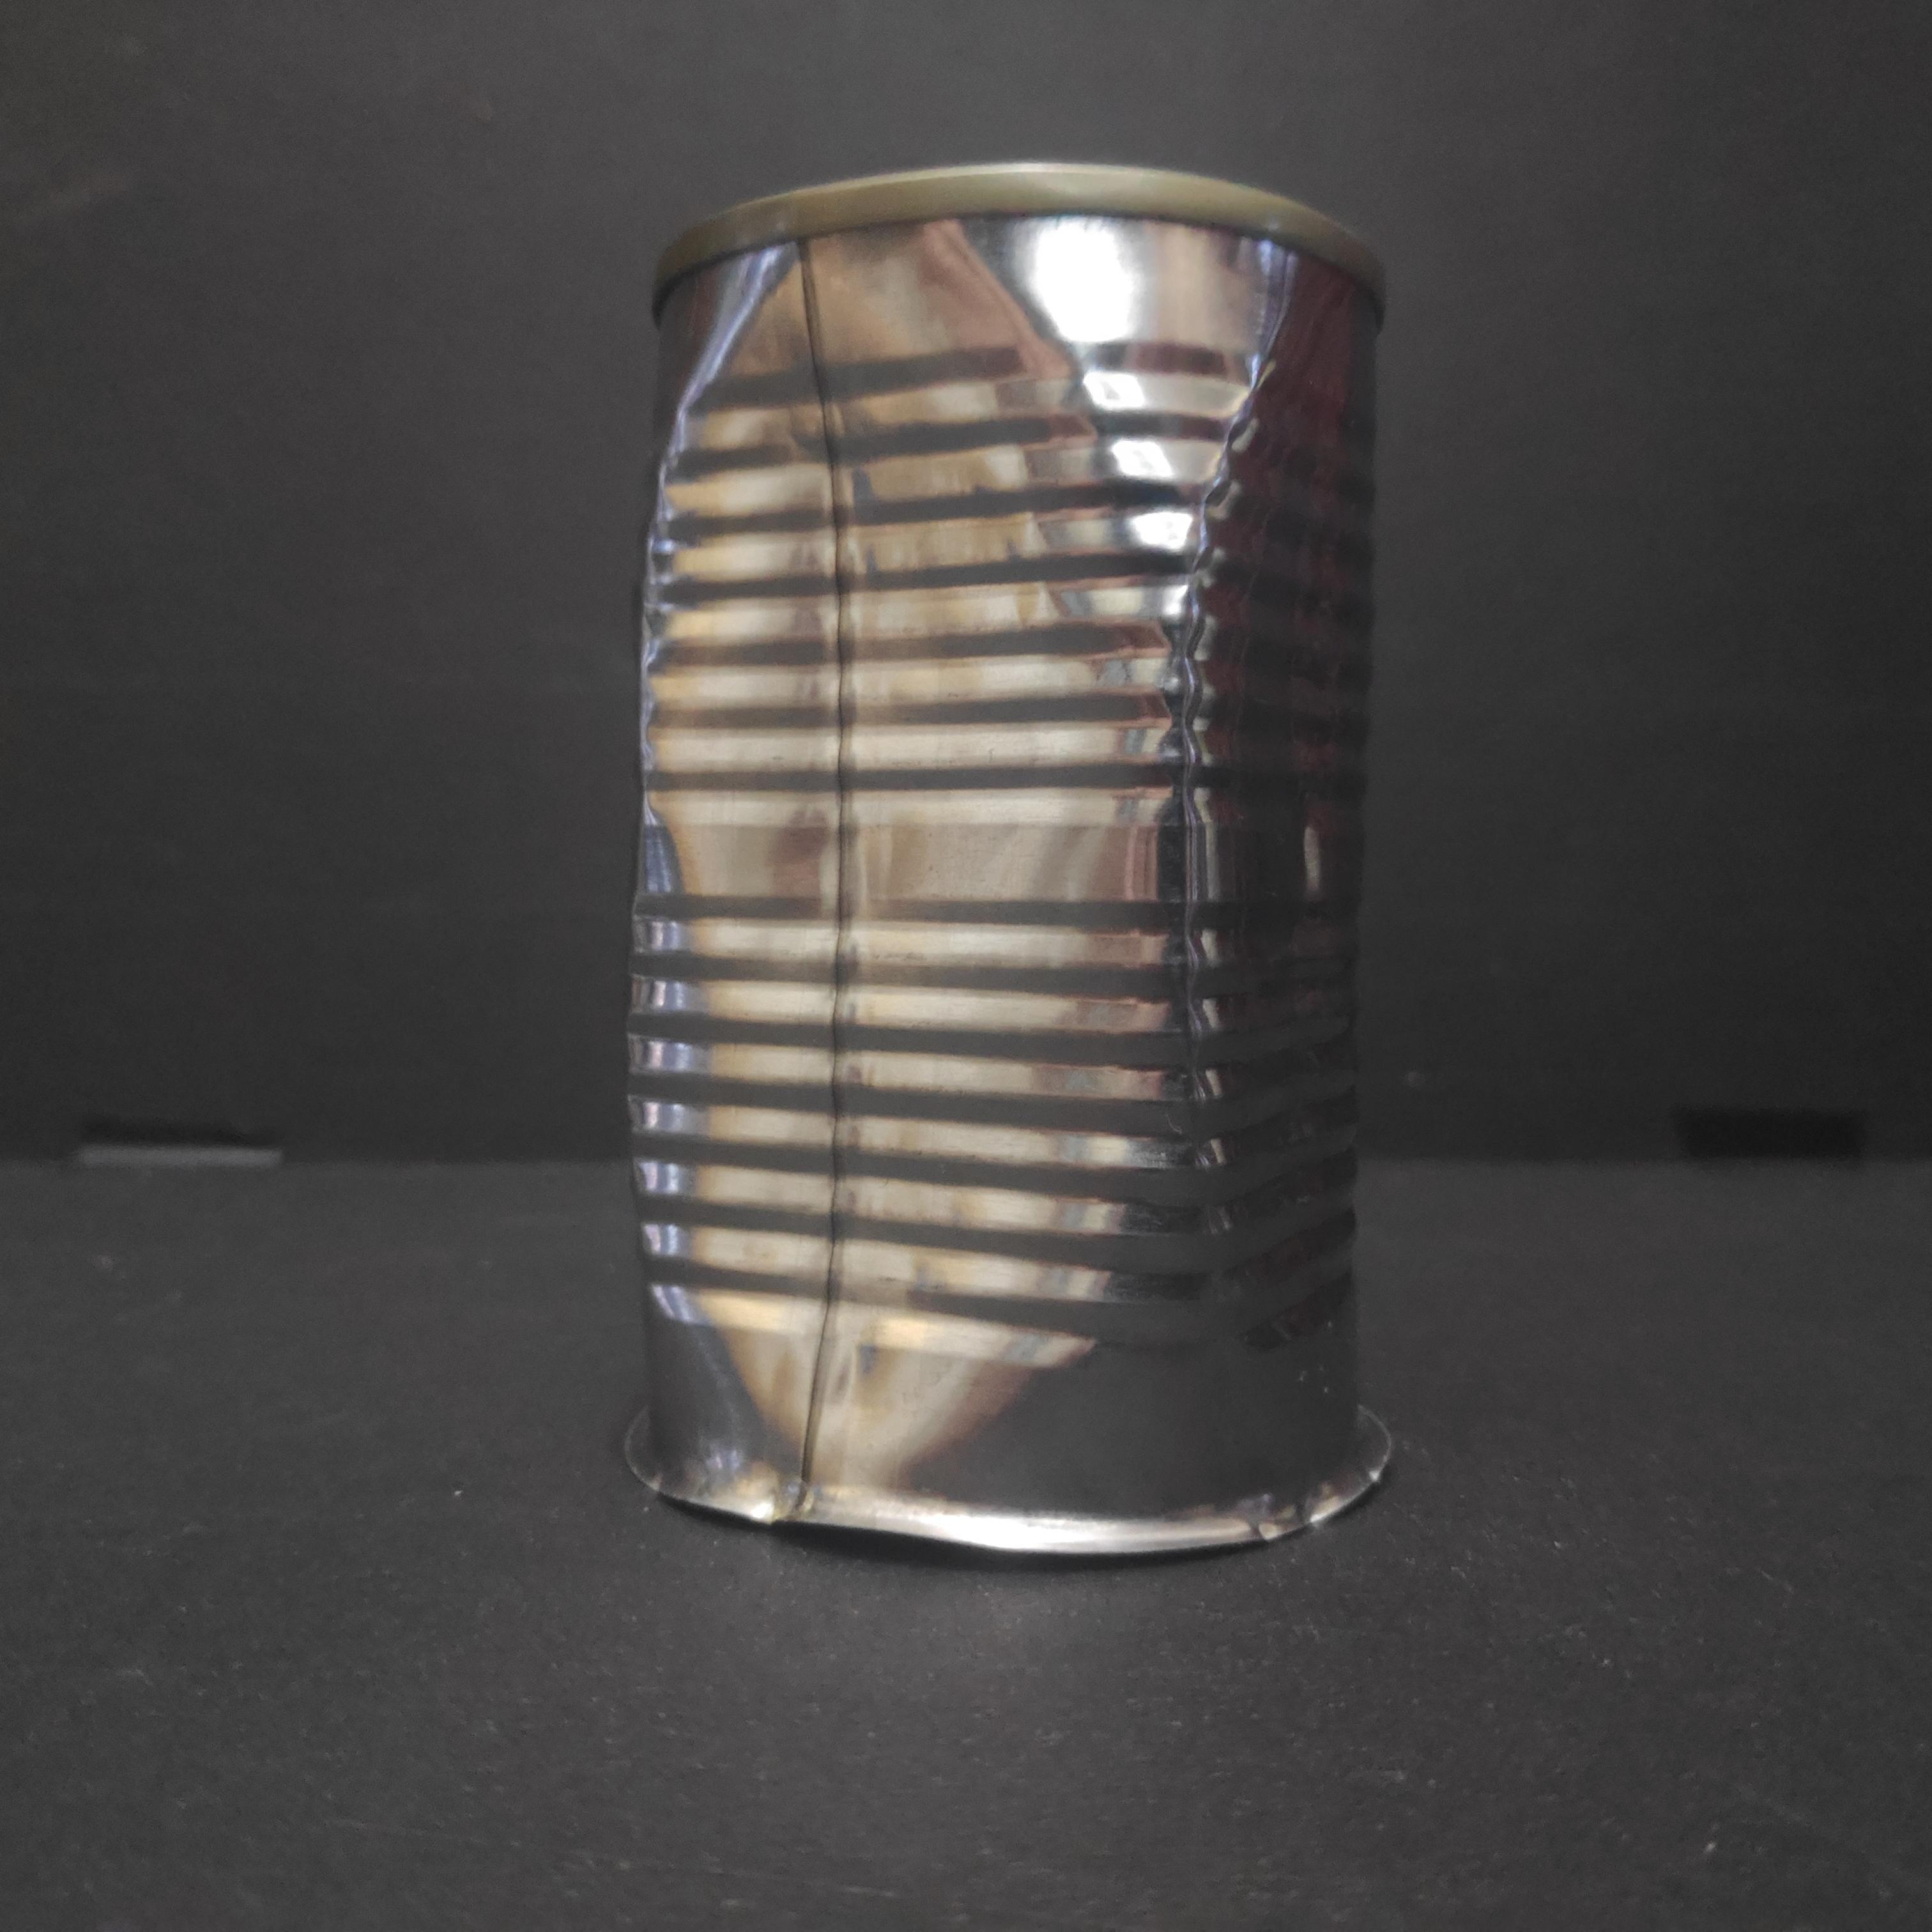Dented: (626, 143, 1405, 1578)
